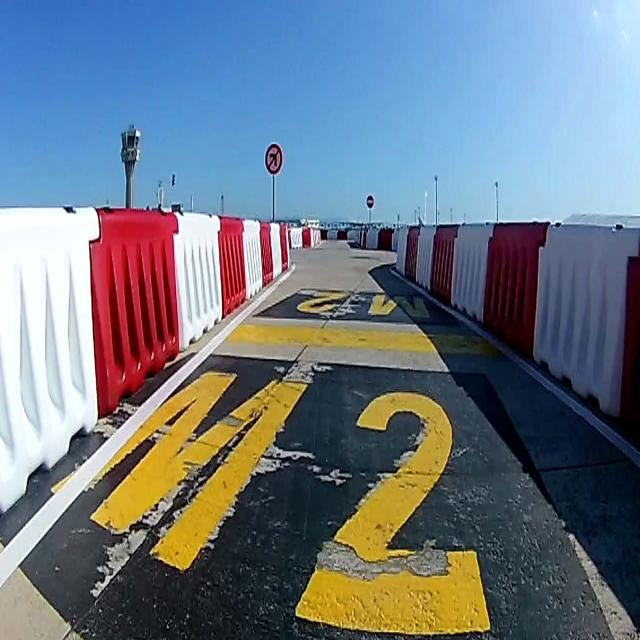girisyok: (365, 192, 373, 210)
soladonulmez: (265, 141, 284, 176)
